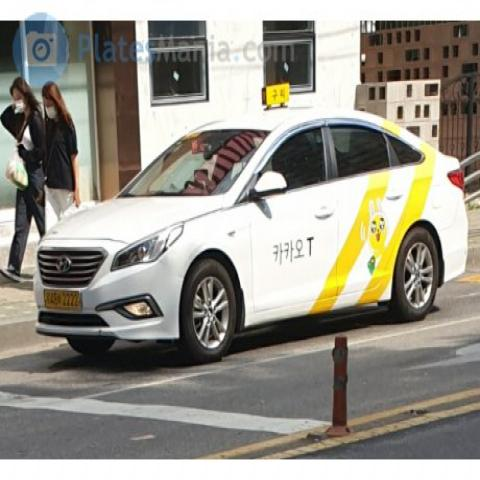LP: (38, 285, 90, 317)
